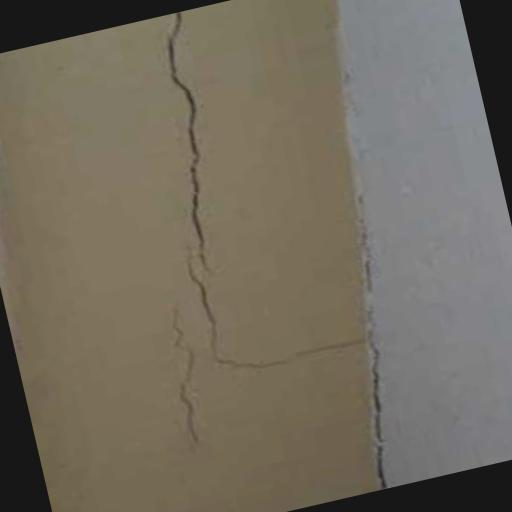spalling: (158, 12, 360, 373), (166, 297, 203, 444)
